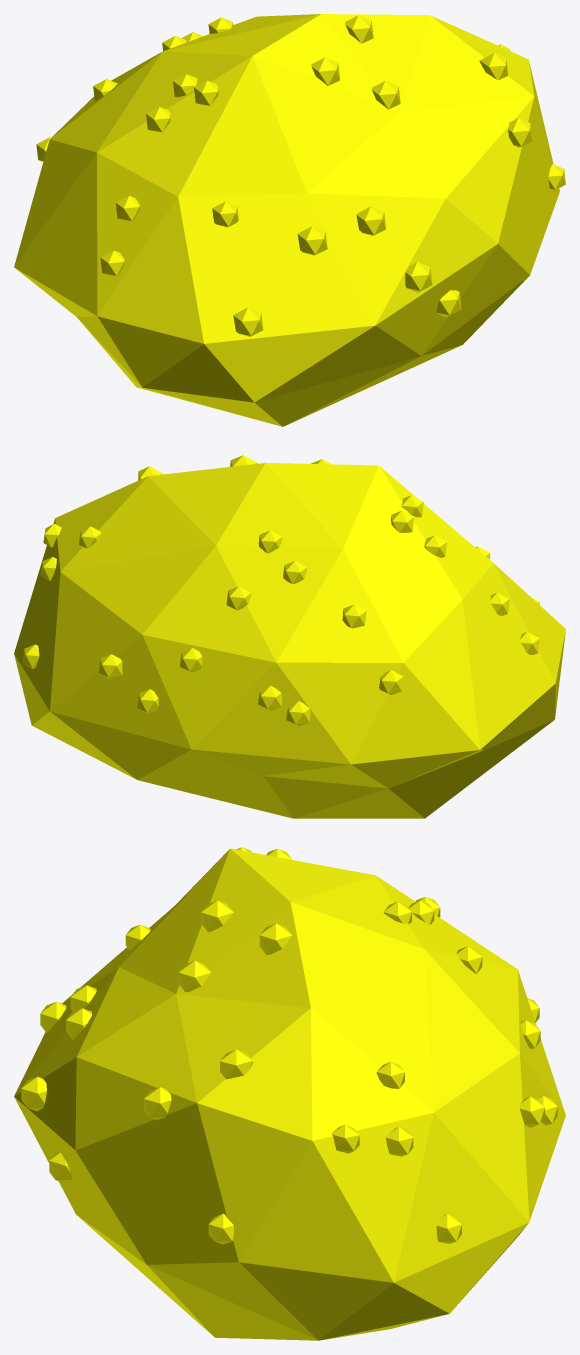
Rendered from bush_berries_blue.glb.
3 views of the same model, one above another, from view 1: azimuth 30°, elevation 25°; view 2: azimuth 150°, elevation 25°; view 3: azimuth 270°, elevation 25° (orthographic). The views are drawn at different scales.
Visible parts, largest first — view 1: bush_berries_blue; view 2: bush_berries_blue; view 3: bush_berries_blue.
Part boxes in pixels (left/top/right/bottom): bush_berries_blue: left=14, top=14, right=565, bottom=426; bush_berries_blue: left=14, top=455, right=565, bottom=818; bush_berries_blue: left=14, top=847, right=565, bottom=1340.
Size of the model in its own units: 4.38 by 2.85 by 3.75.
Materials: 1 (1 with a texture image).
